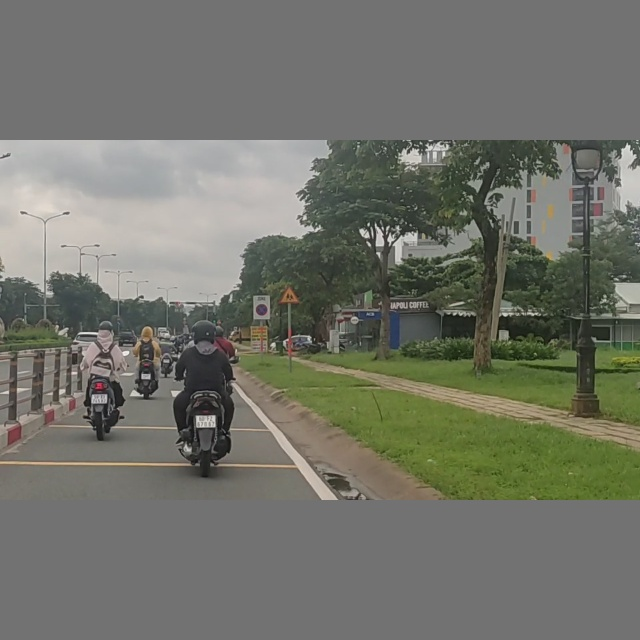P.130: (256, 303, 268, 315)
W.225: (279, 286, 300, 304)
